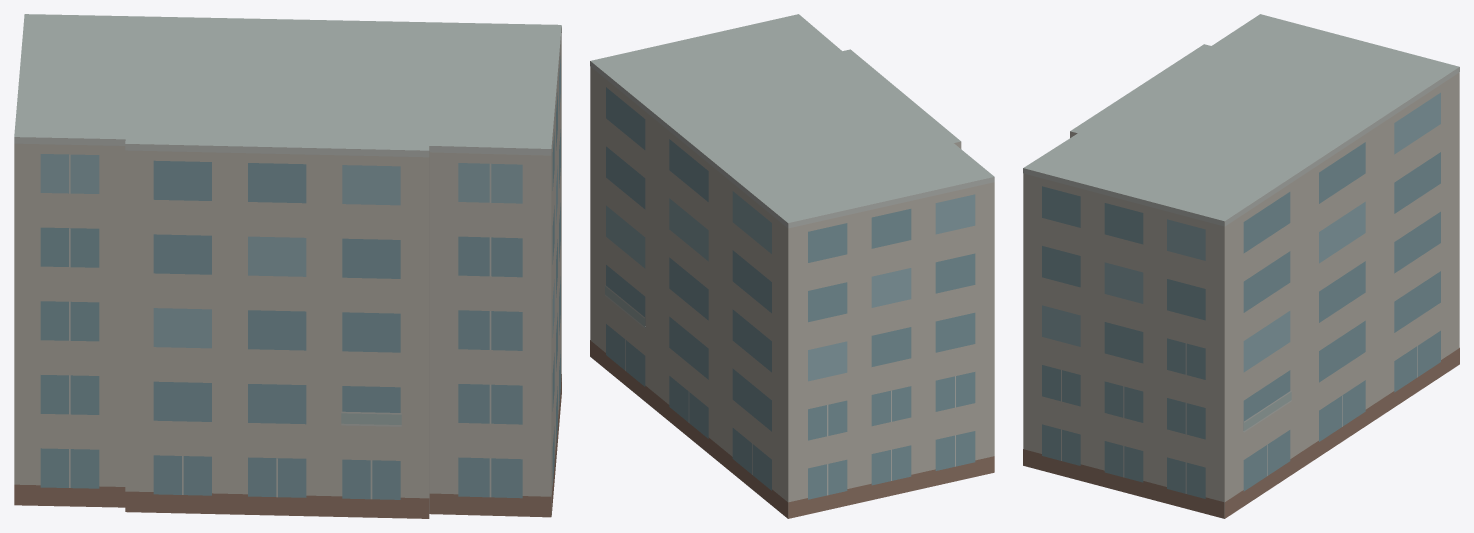
File: survey-upis-32665159.glb
3 views of the same model, side by side, from view 1: azimuth 30°, elevation 25°; view 2: azimuth 150°, elevation 25°; view 3: azimuth 270°, elevation 25° (orthographic). The views are drawn at different scales.
Visible parts, largest first — view 1: survey-upis-32665159.tmp; view 2: survey-upis-32665159.tmp; view 3: survey-upis-32665159.tmp.
Part boxes in pixels (left/top/right/bottom): survey-upis-32665159.tmp: left=14, top=14, right=561, bottom=518; survey-upis-32665159.tmp: left=590, top=14, right=994, bottom=518; survey-upis-32665159.tmp: left=1023, top=14, right=1459, bottom=518.
Size of the model in its own units: 20.25 by 13.55 by 18.03.
